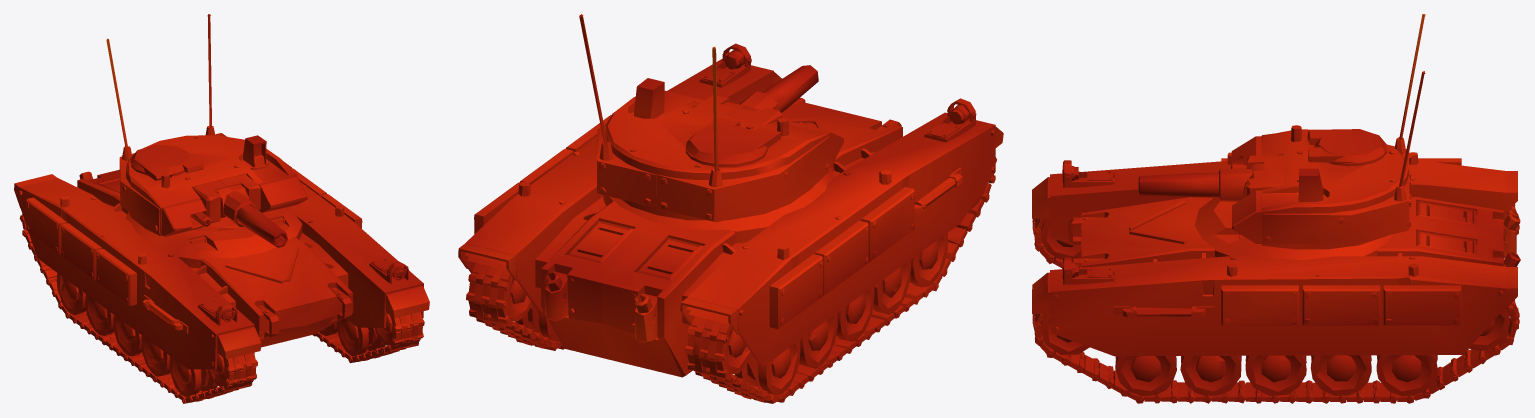
Rendered from wb-light-tank.fbx.
3 views of the same model, side by side, from view 1: azimuth 30°, elevation 25°; view 2: azimuth 150°, elevation 25°; view 3: azimuth 270°, elevation 25° (orthographic). The views are drawn at different scales.
Visible parts, largest first — view 1: light-tank; view 2: light-tank; view 3: light-tank.
Part boxes in pixels (bbox=[...]): light-tank: bbox=[14, 14, 429, 403]; light-tank: bbox=[458, 14, 1003, 403]; light-tank: bbox=[1032, 14, 1520, 403].
Bounding box in the file's own units: 0.5333 × 0.5728 × 0.827.
